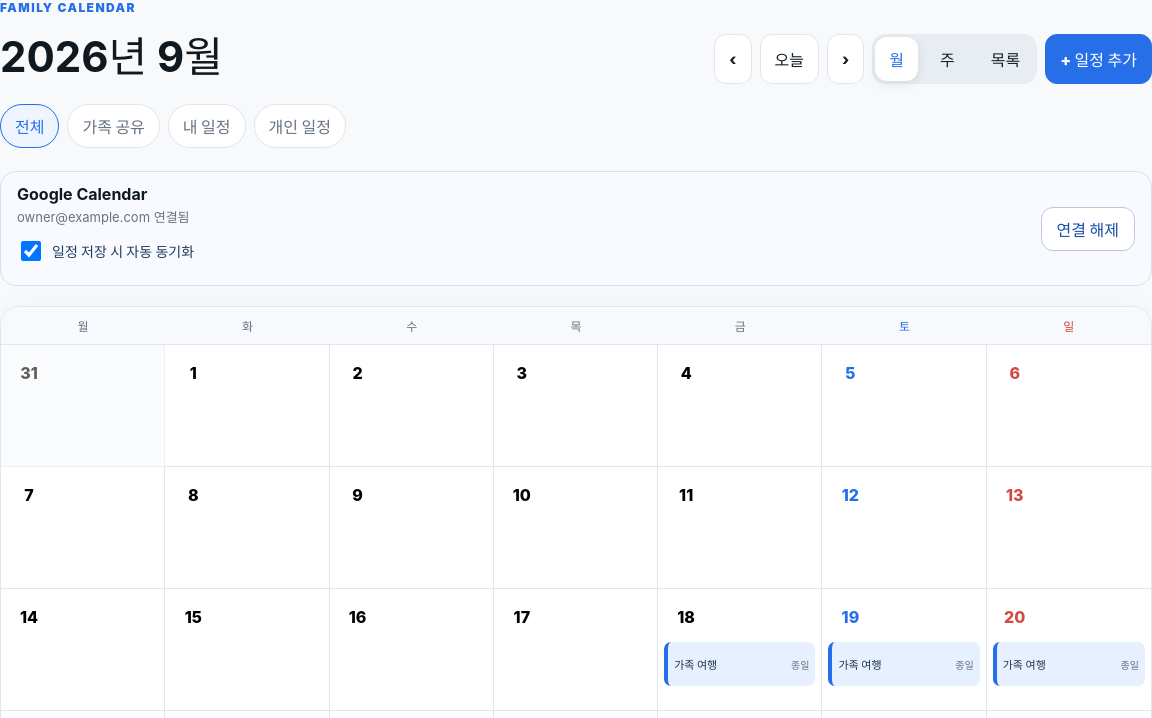
CalendarPage month view › shows automatic sync preference and retry state for a connected owner
Expected: the checkbox labelled "일정 저장 시 자동 동기화" is checked, [21,241,41,261]
Click the 1st button "가족 여행 종일" at [740, 664], box [664,642,815,686]
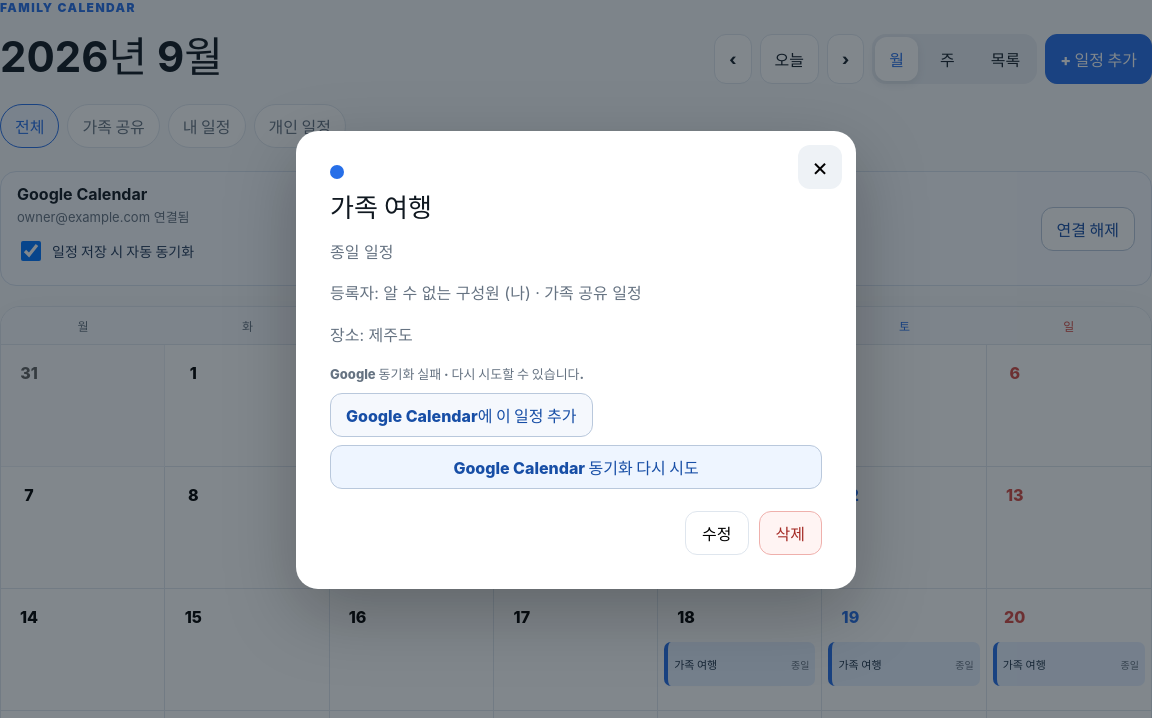
Now the text "Google 동기화 실패 · 다시 시도할 수 있습니다." is shown, box [330,366,584,382]
Now the button "Google Calendar 동기화 다시 시도" is shown, box [330,445,822,489]
